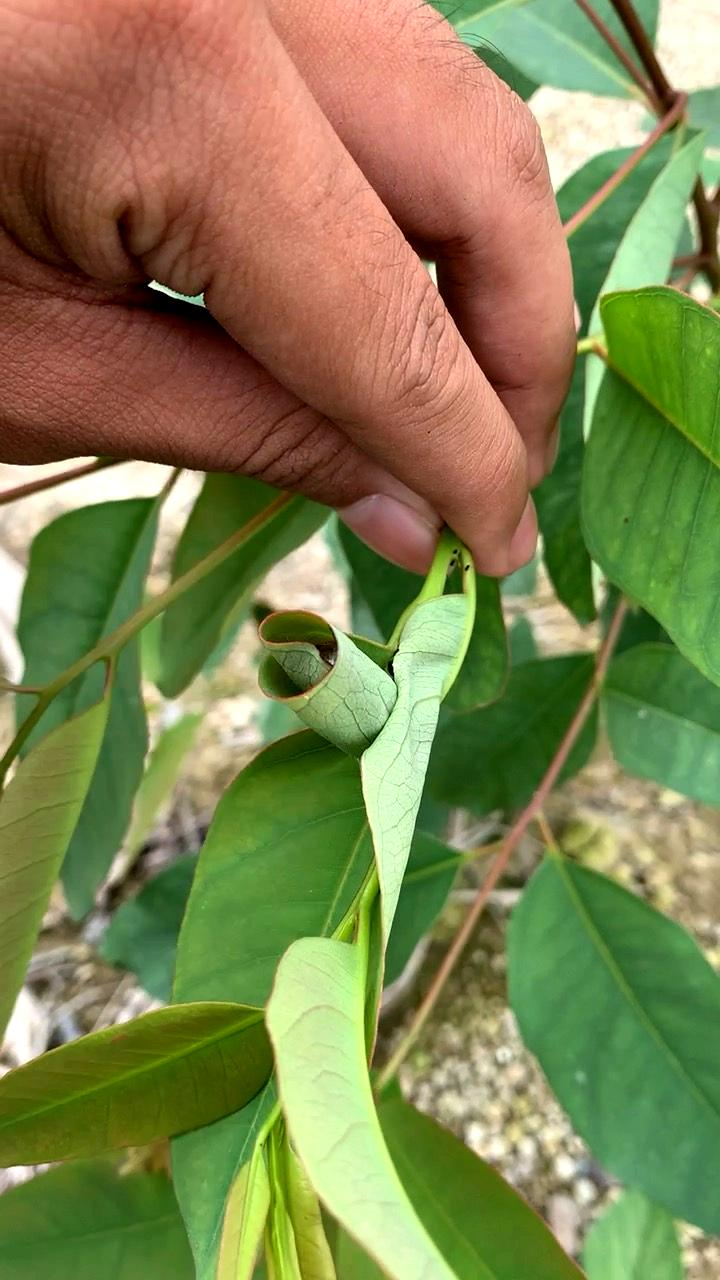Leaf Roller - Leaf: (226, 576, 437, 808)
